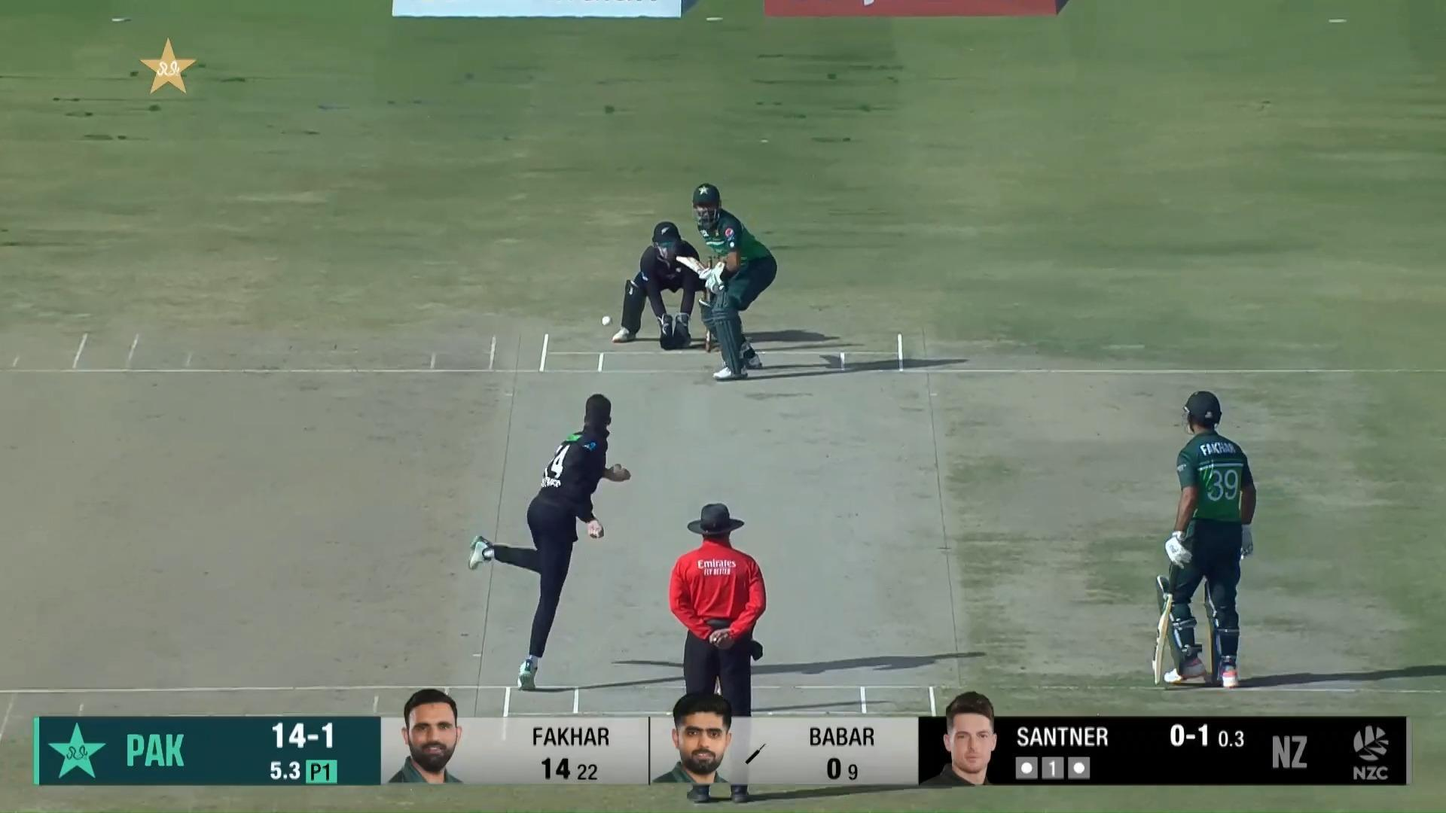BM 1: (674, 182, 777, 380)
BO: (467, 391, 632, 692)
